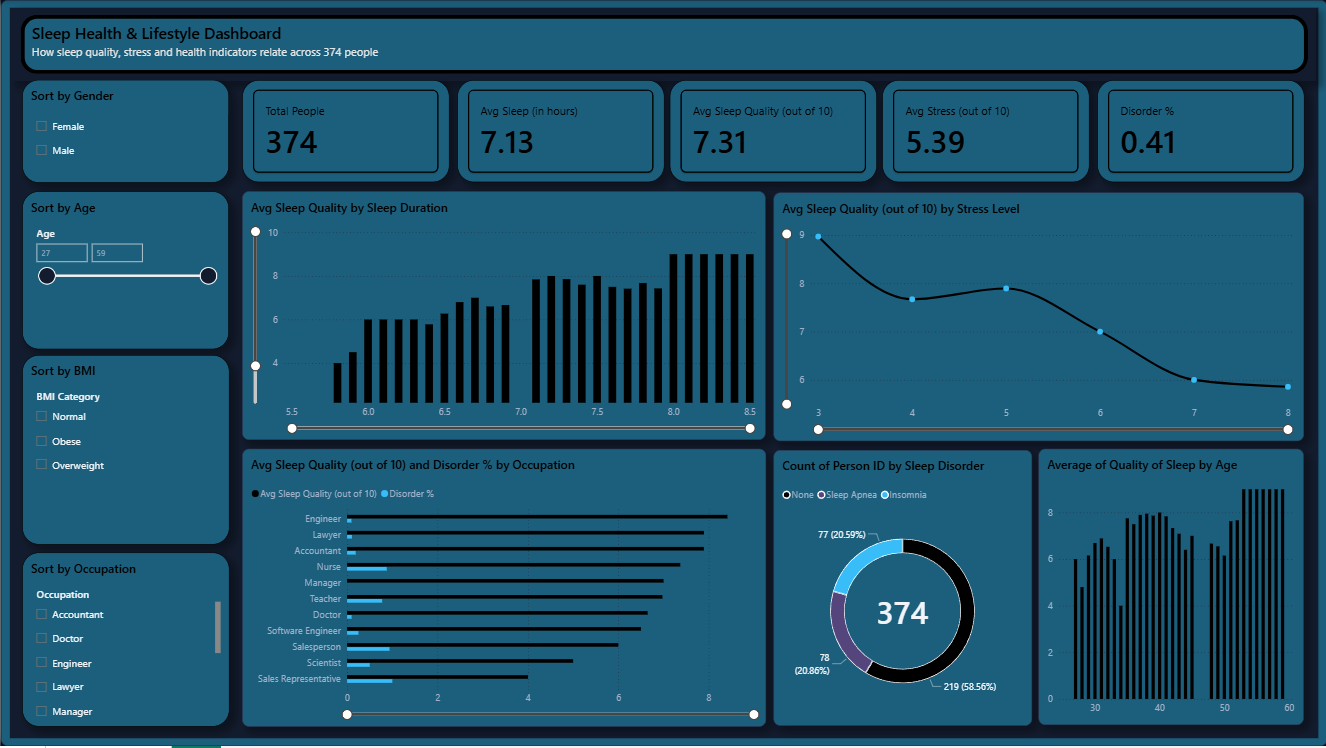

The dashboard page shown, as its layout file describes it:
{"tool":"powerbi","page":{"name":"Overview","canvas":[1920,1080],"ordinal":0},"visuals":[{"type":"image","box":[0,0,1920,1080],"z":0},{"type":"shape","box":[16.4,10,1888,106],"z":1000},{"type":"textbox","title":"Sleep Health & Lifestyle Dashboard","box":[32,22,746,84],"z":2000},{"type":"slicer","title":"Sort by Gender","fields":{"Values":["Sleep_health_and_lifestyle_dataset csv.Gender"]},"box":[31.5,115.4,299.1,149.1],"z":3000},{"type":"slicer","title":"Sort by Age","fields":{"Values":["Sleep_health_and_lifestyle_dataset csv.Age"]},"box":[31.1,277.8,298.9,228.9],"z":4000},{"type":"slicer","title":"Sort by BMI","fields":{"Values":["Sleep_health_and_lifestyle_dataset csv.BMI Category"]},"box":[31.4,514.3,300,274.3],"z":5000},{"type":"slicer","title":"Sort by Occupation","fields":{"Values":["Sleep_health_and_lifestyle_dataset csv.Occupation"]},"box":[31,799,300,252],"z":6000},{"type":"cardVisual","title":"People","fields":{"Data":["Sleep.Total People"]},"box":[350,116.4,300,148.2],"z":7000},{"type":"cardVisual","title":"People","fields":{"Data":["Sleep.Avg Sleep"]},"box":[660,116,300,148.2],"z":8000},{"type":"cardVisual","title":"People","fields":{"Data":["Sleep.Avg Sleep Quality"]},"box":[968.3,115,300,148.2],"z":9000},{"type":"cardVisual","title":"People","fields":{"Data":["Sleep.Avg Stress (out of 10)"]},"box":[1276.7,115,300,148.2],"z":10000},{"type":"cardVisual","title":"People","fields":{"Data":["Sleep.Disorder %"]},"box":[1586.4,115.5,300,148.2],"z":11000},{"type":"columnChart","title":"Avg Sleep Quality by Sleep Duration","fields":{"Category":["Sleep.Sleep Duration"],"Y":["Sleep.Avg Sleep Quality (out of 10)"]},"box":[350,277.5,757.8,360],"z":12000},{"type":"lineChart","fields":{"Category":["Sleep.Stress Level"],"Y":["Sleep.Avg Sleep Quality (out of 10)"]},"box":[1118,278,768,360],"z":13000},{"type":"clusteredBarChart","fields":{"Category":["Sleep.Occupation"],"Y":["Sleep.Avg Sleep Quality (out of 10)","Sleep.Disorder %"]},"box":[350,650,758,402],"z":14000},{"type":"donutChart","fields":{"Category":["Sleep.Sleep Disorder"],"Y":["CountNonNull(Sleep.Person ID)"]},"box":[1119,651,374,399],"z":15000},{"type":"columnChart","fields":{"Category":["Sleep.Age"],"Y":["Avg(Sleep.Quality of Sleep)"]},"box":[1502,650,384,400],"z":16000}]}

Visuals, with their boxes in screenshot pixels (x1, y1, x2, y2), scaled from the page's 1920x1080 canvas onto the 1326x748 screenshot:
image: bbox=[0, 0, 1325, 747]
shape: bbox=[11, 7, 1315, 80]
"Sleep Health & Lifestyle Dashboard" textbox: bbox=[22, 15, 537, 73]
"Sort by Gender" slicer: bbox=[22, 80, 228, 183]
"Sort by Age" slicer: bbox=[21, 192, 228, 351]
"Sort by BMI" slicer: bbox=[22, 356, 229, 546]
"Sort by Occupation" slicer: bbox=[21, 553, 229, 728]
"People" cardVisual: bbox=[242, 81, 449, 183]
"People" cardVisual: bbox=[456, 80, 663, 183]
"People" cardVisual: bbox=[669, 80, 876, 182]
"People" cardVisual: bbox=[882, 80, 1089, 182]
"People" cardVisual: bbox=[1096, 80, 1303, 183]
"Avg Sleep Quality by Sleep Duration" columnChart: bbox=[242, 192, 765, 442]
lineChart - Sleep.Stress Level x Sleep.Avg Sleep Quality (out of 10): bbox=[772, 193, 1303, 442]
clusteredBarChart - Sleep.Occupation x Sleep.Avg Sleep Quality (out of 10): bbox=[242, 450, 765, 729]
donutChart - Sleep.Sleep Disorder x CountNonNull(Sleep.Person ID): bbox=[773, 451, 1031, 727]
columnChart - Sleep.Age x Avg(Sleep.Quality of Sleep): bbox=[1037, 450, 1303, 727]
